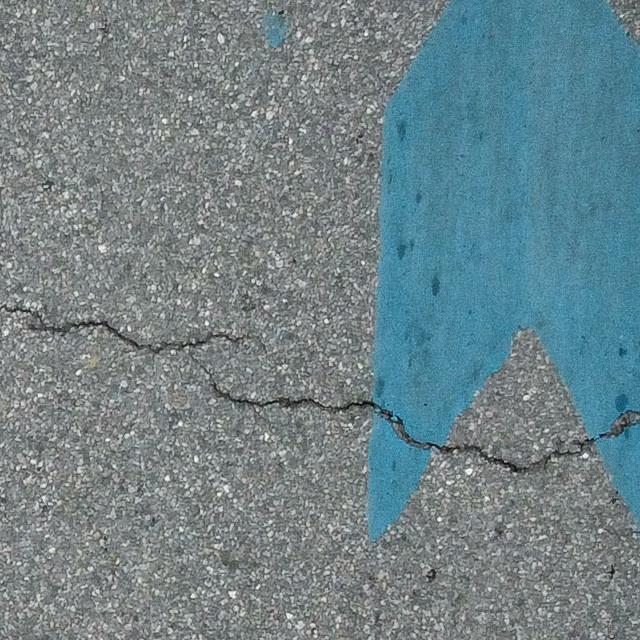TransverseCrack: (186, 357, 640, 476), (1, 301, 269, 354)
